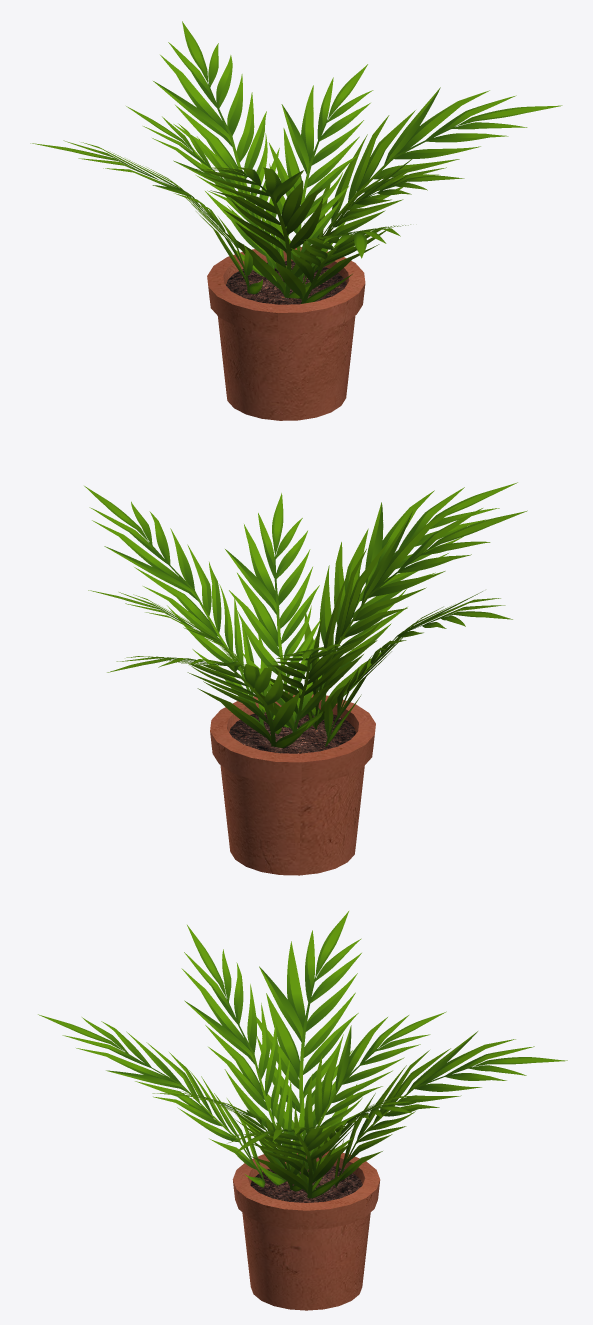
File: pot2.fbx
The picture shows the model from 3 angles, top to bottom: view 1: azimuth 30°, elevation 25°; view 2: azimuth 150°, elevation 25°; view 3: azimuth 270°, elevation 25°; orthographic projection. The views are drawn at different scales.
Visible parts, largest first — view 1: potTwo; view 2: potTwo; view 3: potTwo.
Part boxes in pixels (box(x1,y1,x2,y2)): potTwo: box(30, 21, 562, 420); potTwo: box(84, 482, 527, 875); potTwo: box(38, 911, 567, 1310).
Size of the model in its own units: 5.29 by 3.35 by 5.66.
3 materials, 3 textured.
